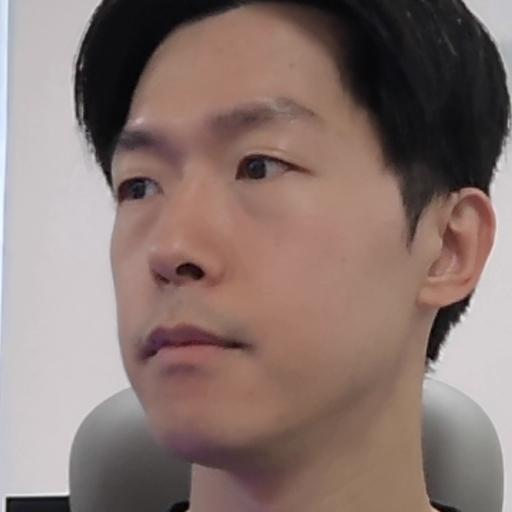no_glasses: (52, 0, 512, 469)
